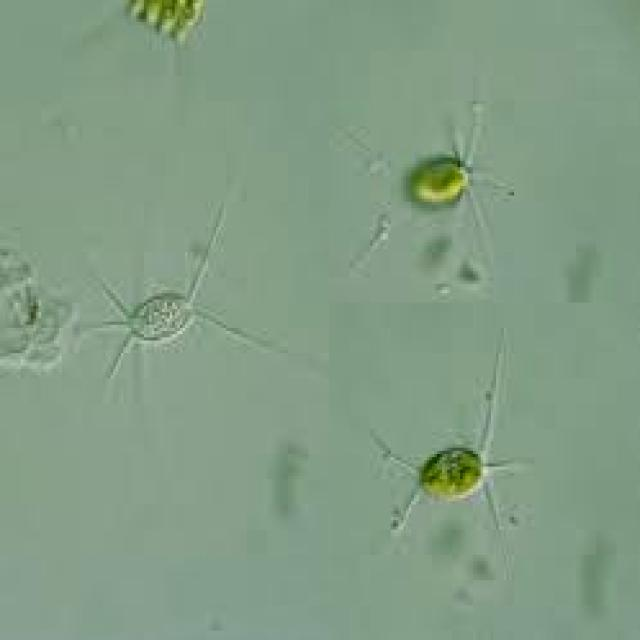Green Algae: (85, 208, 278, 388), (370, 337, 524, 533), (357, 107, 501, 262)
